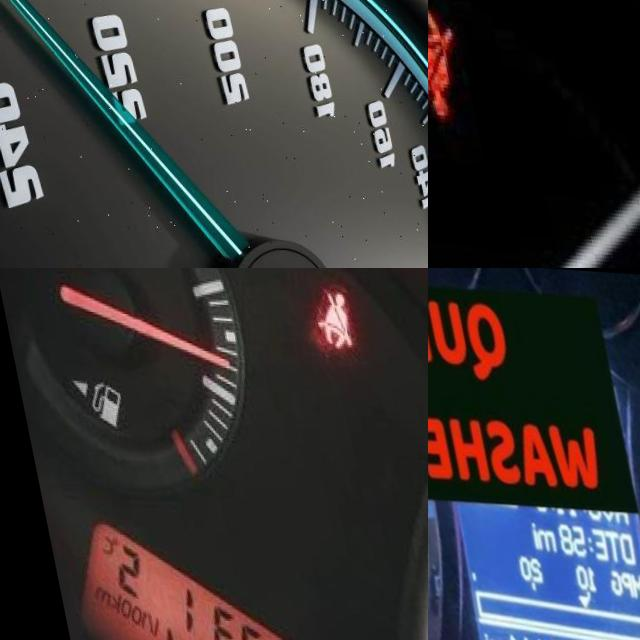Seat Belt: (428, 2, 467, 121), (300, 283, 348, 344)
